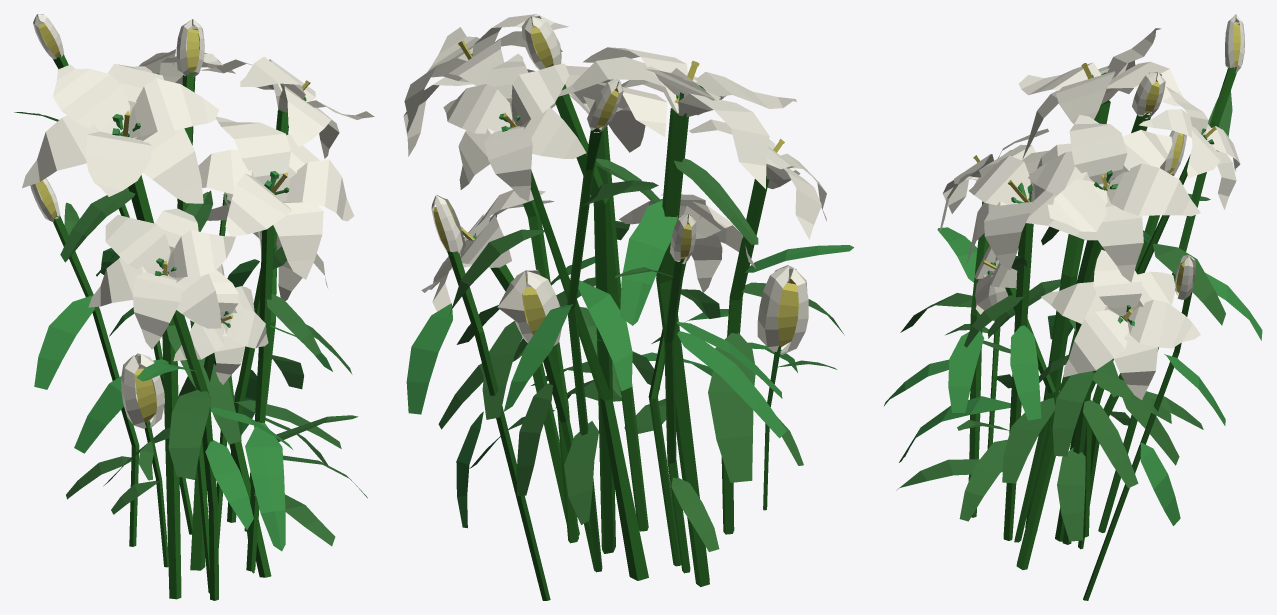
Rendered from flower_4.glb.
3 renders of one model, left to right at view 1: azimuth 30°, elevation 25°; view 2: azimuth 150°, elevation 25°; view 3: azimuth 270°, elevation 25°, orthographic. The views are drawn at different scales.
Visible parts, largest first — view 1: Flower04Plant; view 2: Flower04Plant; view 3: Flower04Plant.
Part boxes in pixels (x1,y1,x2,y2): Flower04Plant: (14, 14, 374, 600); Flower04Plant: (403, 14, 853, 600); Flower04Plant: (884, 14, 1262, 600).
Size of the model in its own units: 0.5241 by 0.8557 by 0.5649.
